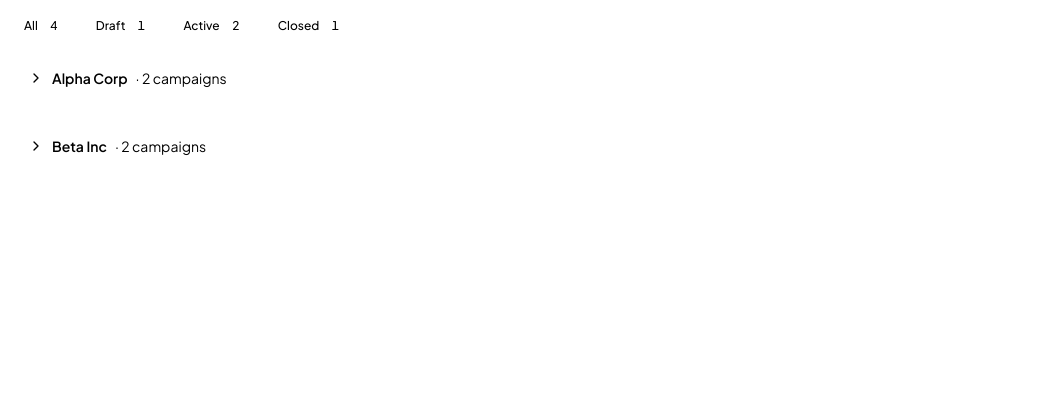
Scenario: CampaignsListWithFilter — grouped by company › collapses the open company when the status filter changes
This screenshot has width=1048, height=411.
What coordinates should you click on to do the following:
click the button "Alpha Corp · 2 campaigns"
I would click on:
 (90, 78)
Its box is [12, 56, 1036, 100].
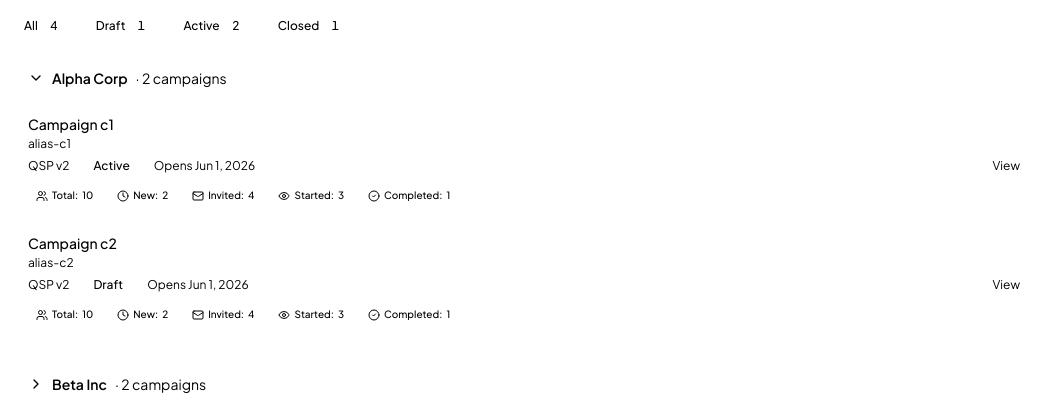
Result: the link "Campaign c1" is shown at [28, 115, 114, 133]
What coordinates should you click on to do the following:
click the button with test id "campaign-filter-pill-active"
I would click on:
 (215, 26)
Its box is [171, 12, 258, 40].
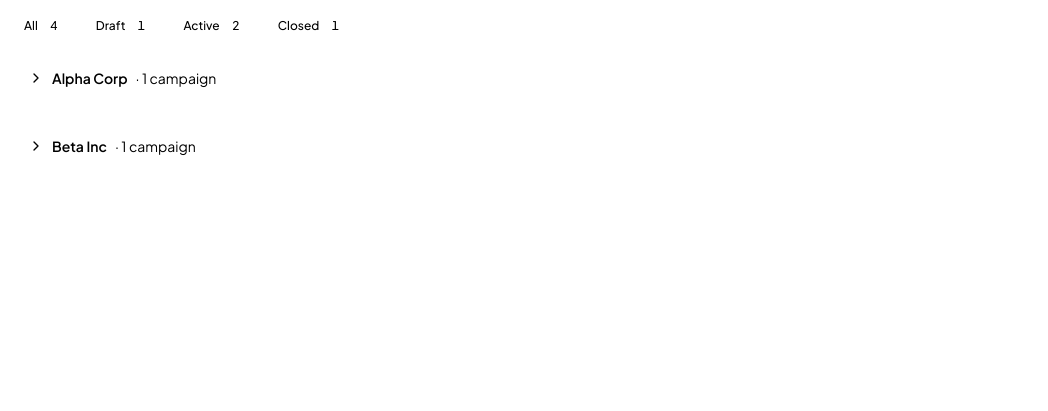
Result: the button "Alpha Corp · 1 campaign" is collapsed at [12, 56, 1036, 100]
Result: the link "Campaign c1" is gone
